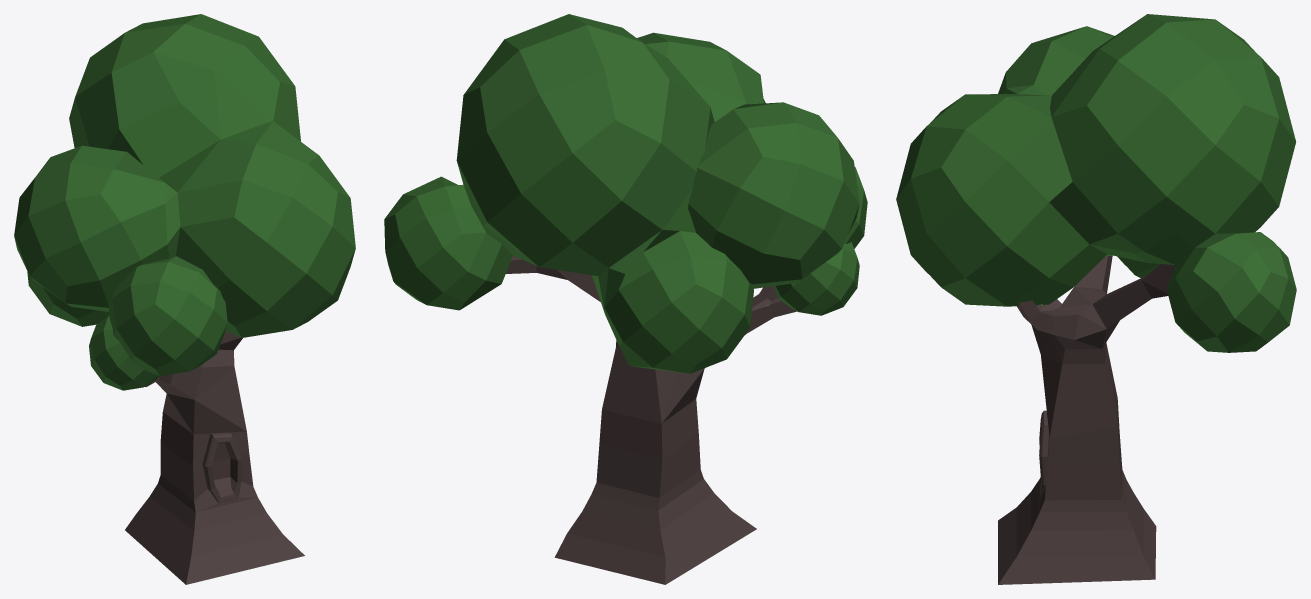
File: 3DObj_TreeHole_V1.fbx
3 renders of one model, left to right at view 1: azimuth 30°, elevation 25°; view 2: azimuth 150°, elevation 25°; view 3: azimuth 270°, elevation 25°, orthographic. The views are drawn at different scales.
Visible parts, largest first — view 1: TreeHole_1; view 2: TreeHole_1; view 3: TreeHole_1.
Boxes of the visible parts, box(x1,y1,x2,y2) form: TreeHole_1: box(14, 14, 355, 584); TreeHole_1: box(384, 14, 867, 584); TreeHole_1: box(896, 14, 1296, 584).
Size of the model in its own units: 354 by 487 by 328.
Materials: 1 (1 with a texture image).
